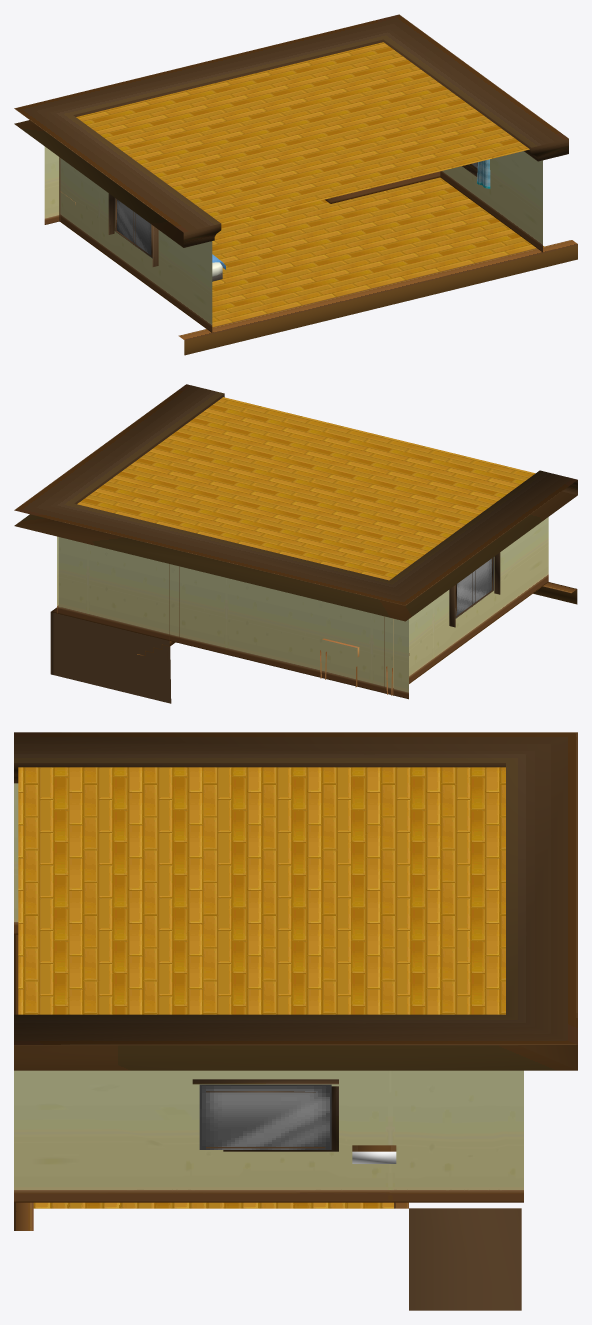
The model's file is TomCatRoom.glb.
3 renders of one model, top to bottom at view 1: azimuth 30°, elevation 25°; view 2: azimuth 150°, elevation 25°; view 3: azimuth 270°, elevation 25°, orthographic. The views are drawn at different scales.
Visible parts, largest first — view 1: Plane, Brendans_Room, Brendans_Room.002, Brendans_Room.001; view 2: Brendans_Room, Plane, Brendans_Room.001; view 3: Plane, Brendans_Room, Brendans_Room.001, Brendans_Room.002.
Part boxes in pixels (x1,y1,x2,y2): Plane: (76,42,529,224); Brendans_Room: (14,14,577,355); Brendans_Room.002: (212,171,543,327); Brendans_Room.001: (60,151,542,332); Brendans_Room: (14,384,577,703); Plane: (77,397,535,580); Brendans_Room.001: (57,517,548,695); Plane: (18,767,505,1014); Brendans_Room: (14,732,577,1310); Brendans_Room.001: (14,783,523,1202); Brendans_Room.002: (33,1202,387,1208).
Bounding box in the file's own units: 26.42 × 10.83 × 19.69.
Materials: 15 (15 with a texture image).
